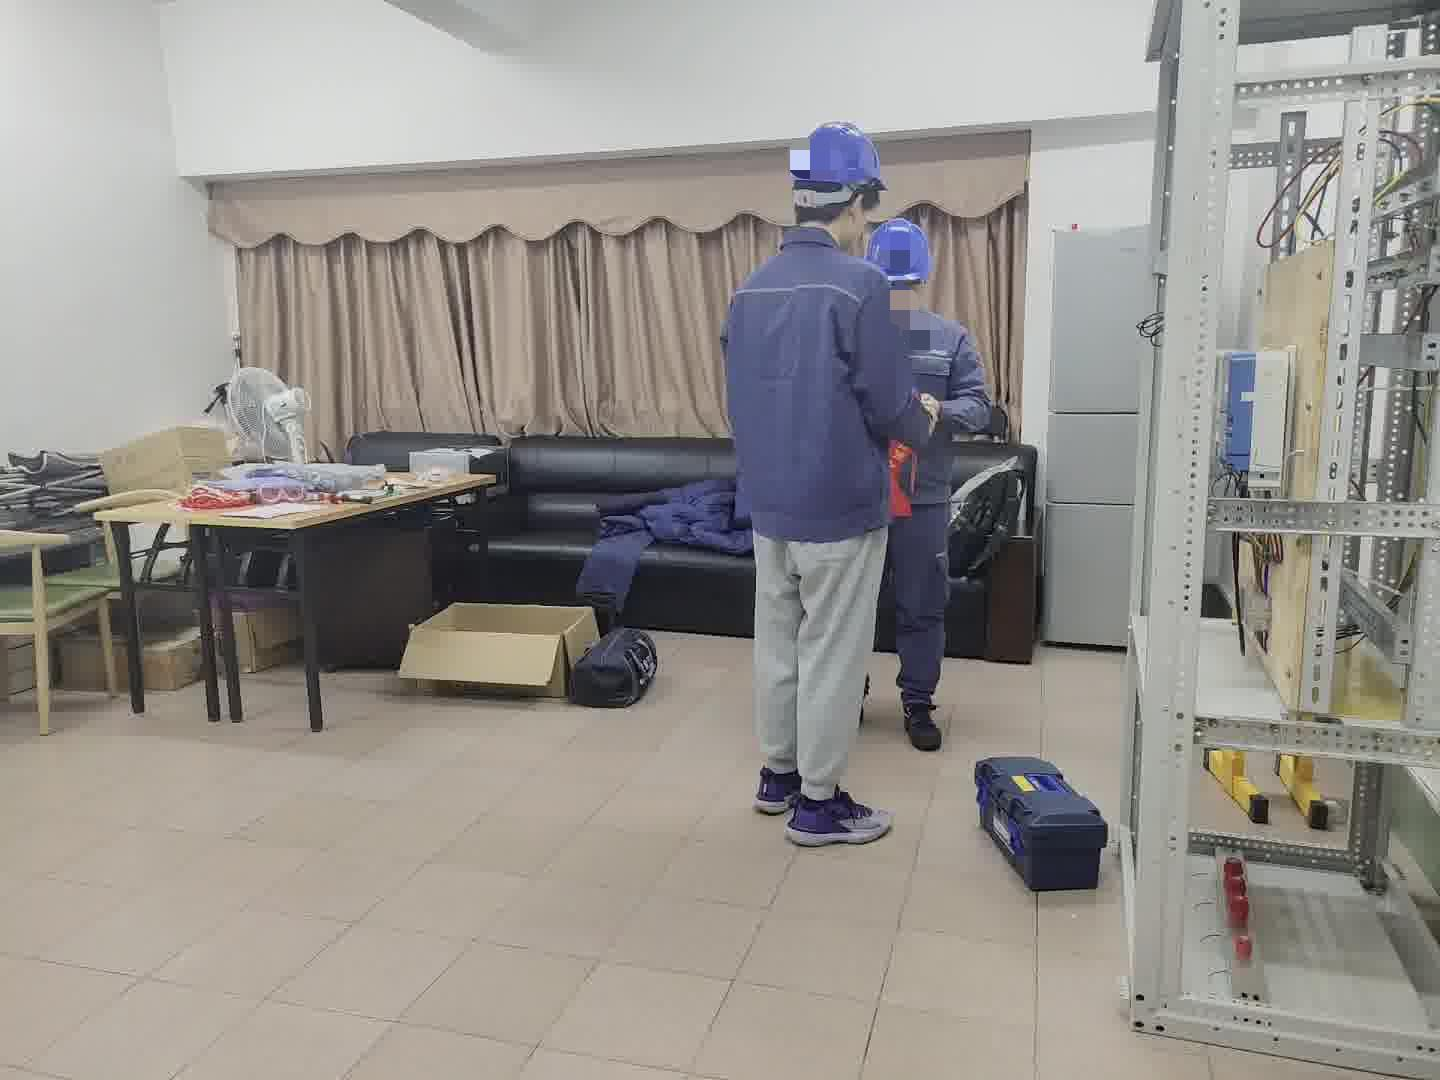halt: (789, 124, 888, 233), (869, 219, 940, 313)
